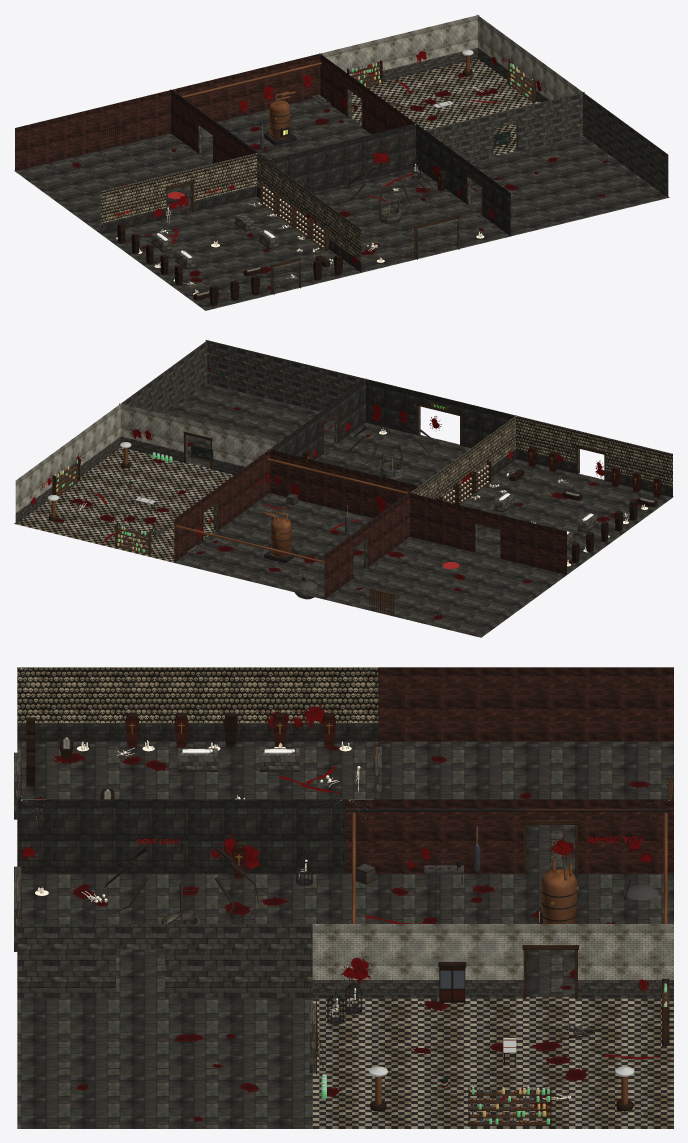
File: house_basement.glb
3 views of the same model, one above another, from view 1: azimuth 30°, elevation 25°; view 2: azimuth 150°, elevation 25°; view 3: azimuth 270°, elevation 25° (orthographic). The views are drawn at different scales.
Parts seen in each view (by area): view 1: house_basement; view 2: house_basement; view 3: house_basement.
Boxes of the visible parts, bbox=[...] form: house_basement: bbox=[14, 14, 669, 310]; house_basement: bbox=[14, 340, 673, 637]; house_basement: bbox=[14, 667, 673, 1128].
Bounding box in the file's own units: 56.6 × 6.32 × 40.2.
Materials: 61 (46 with a texture image).
